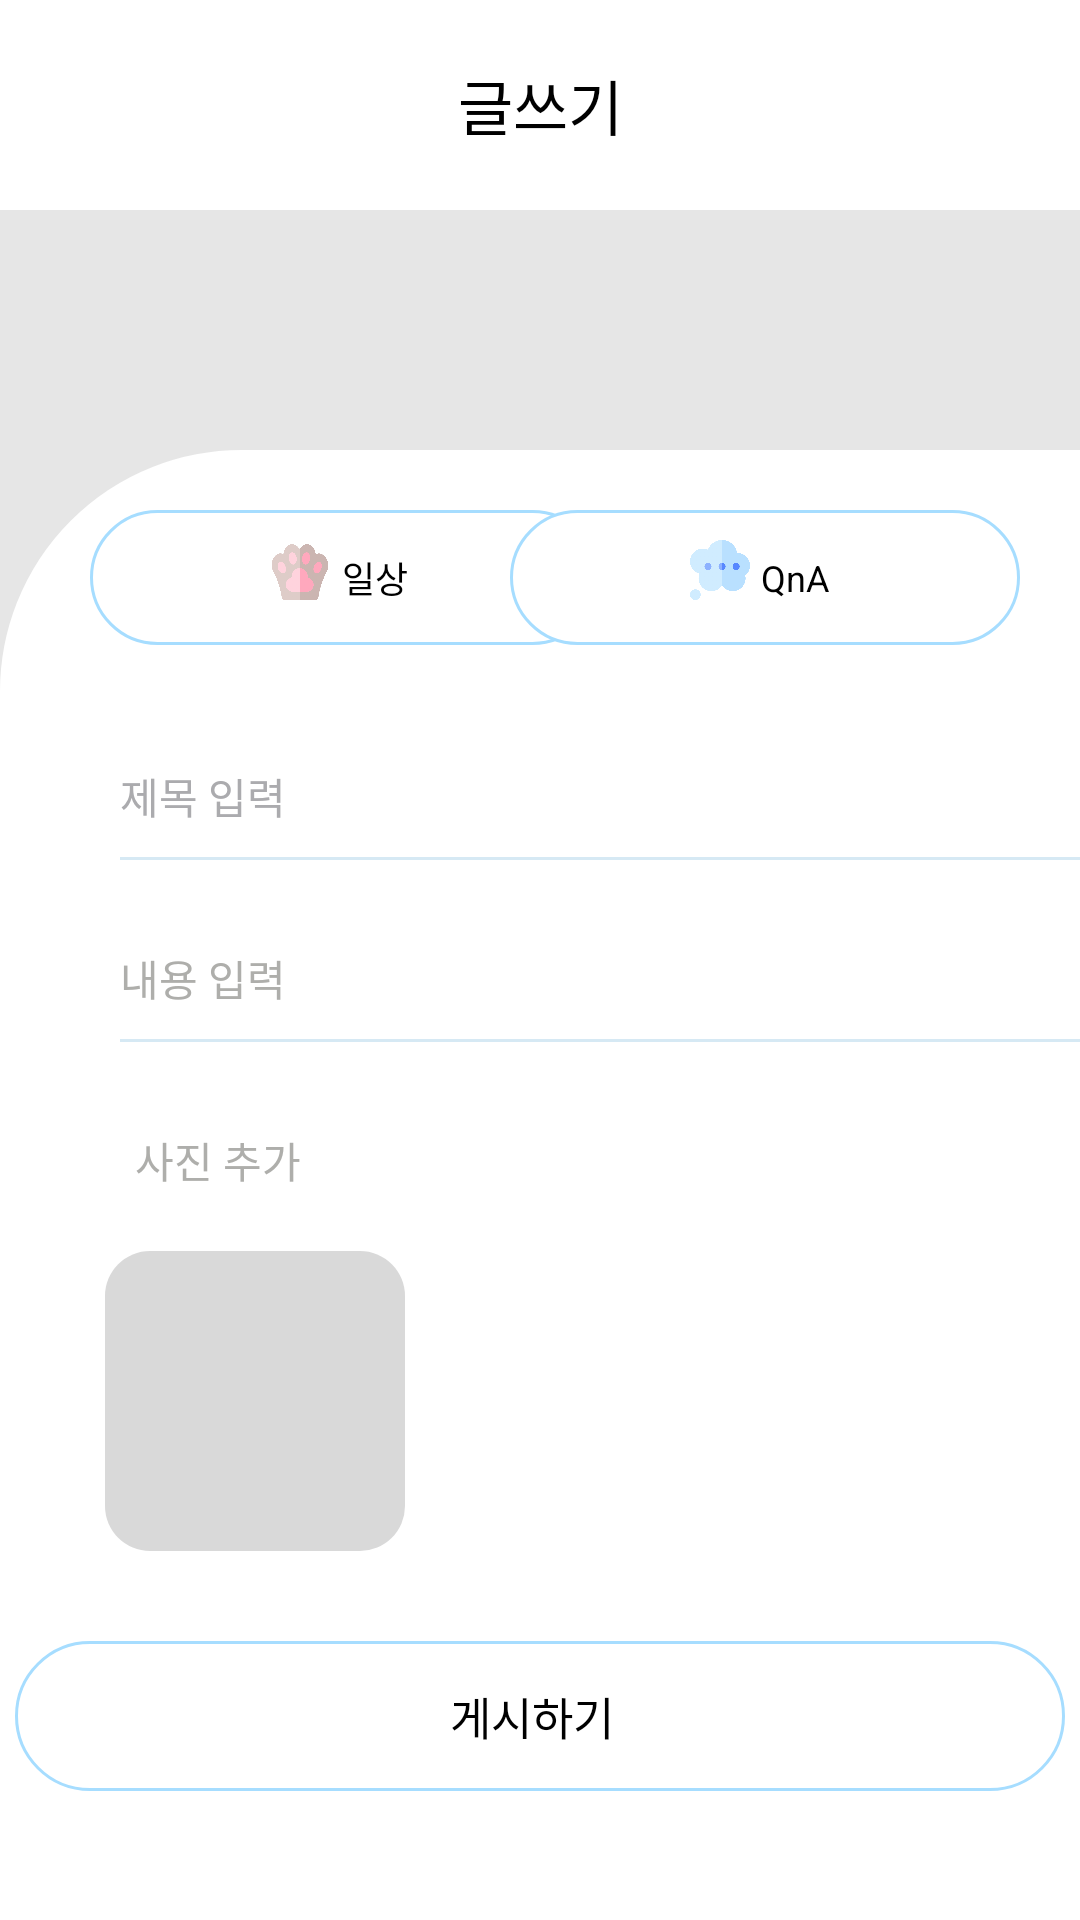

Icons on this 1080px×1920px Android screen, each with its box as region(x1, y1, x2, y2):
chat: region(690, 540, 750, 600)
pet: region(272, 544, 328, 600)
